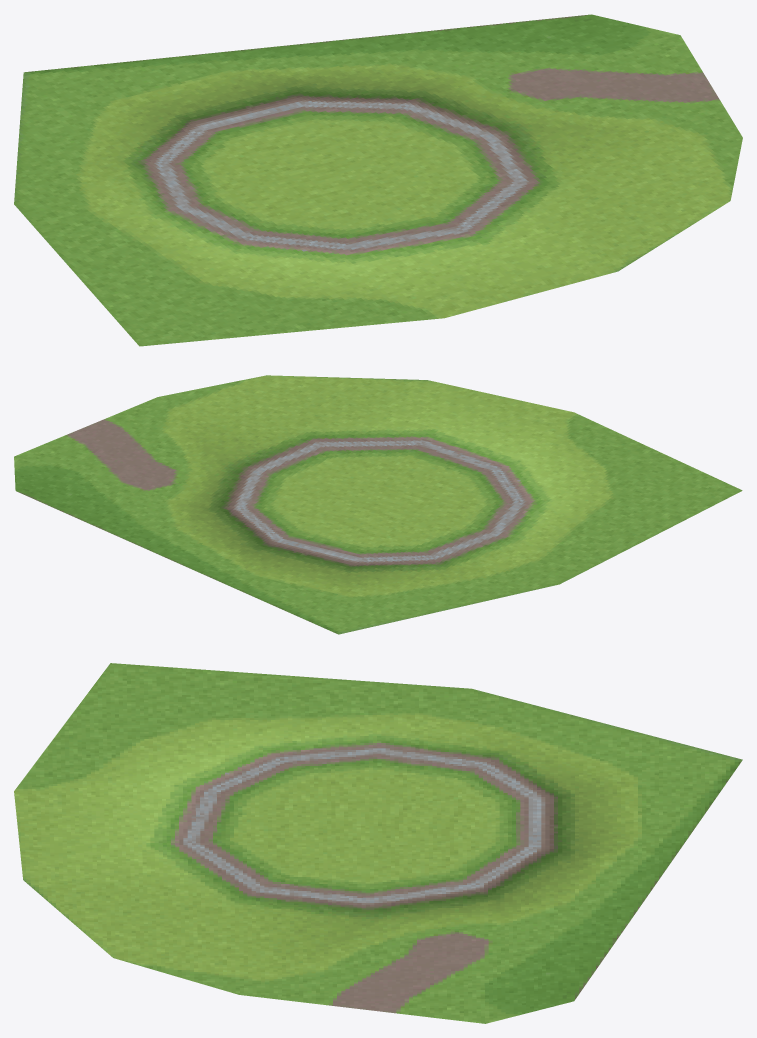
File: kd_stage_1366d7_3_13.glb
The picture shows the model from 3 angles, top to bottom: view 1: azimuth 30°, elevation 25°; view 2: azimuth 150°, elevation 25°; view 3: azimuth 270°, elevation 25°; orthographic projection. The views are drawn at different scales.
Parts seen in each view (by area): view 1: kd_stage_1366d7_3_13; view 2: kd_stage_1366d7_3_13; view 3: kd_stage_1366d7_3_13.
Boxes of the visible parts, x1,y1,x2,y2 form: kd_stage_1366d7_3_13: (14, 14, 742, 346); kd_stage_1366d7_3_13: (14, 375, 742, 634); kd_stage_1366d7_3_13: (14, 663, 742, 1023).
Size of the model in its own units: 197 by 0 by 168.
Materials: 1 (1 with a texture image).
